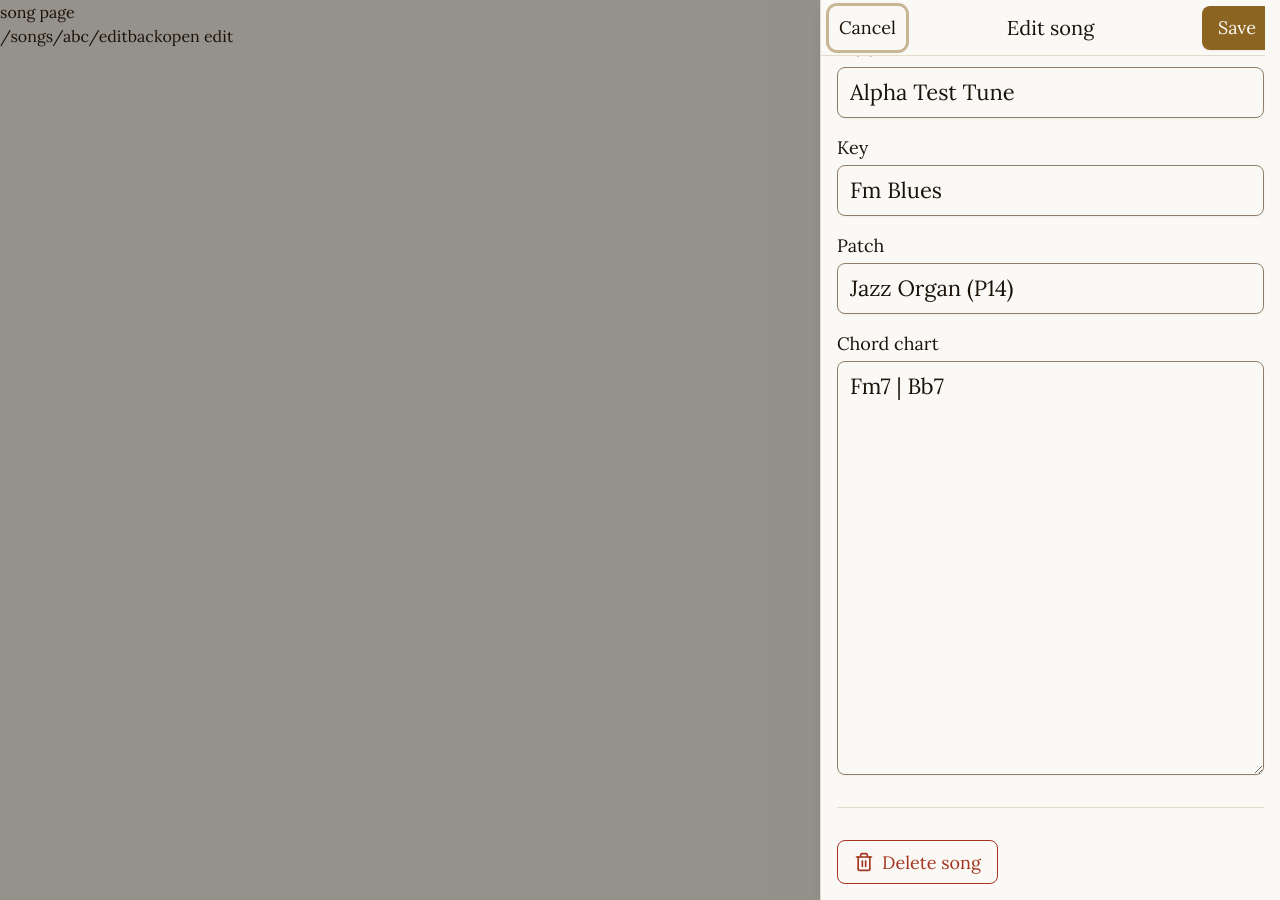
SongEdit delete › deletes on Yes, delete and goes to the song list
(page scrolled)
What coordinates should you click on to do the following:
click the button "Delete song"
I would click on:
 (917, 862)
Its box is left=837, top=840, right=998, bottom=884.
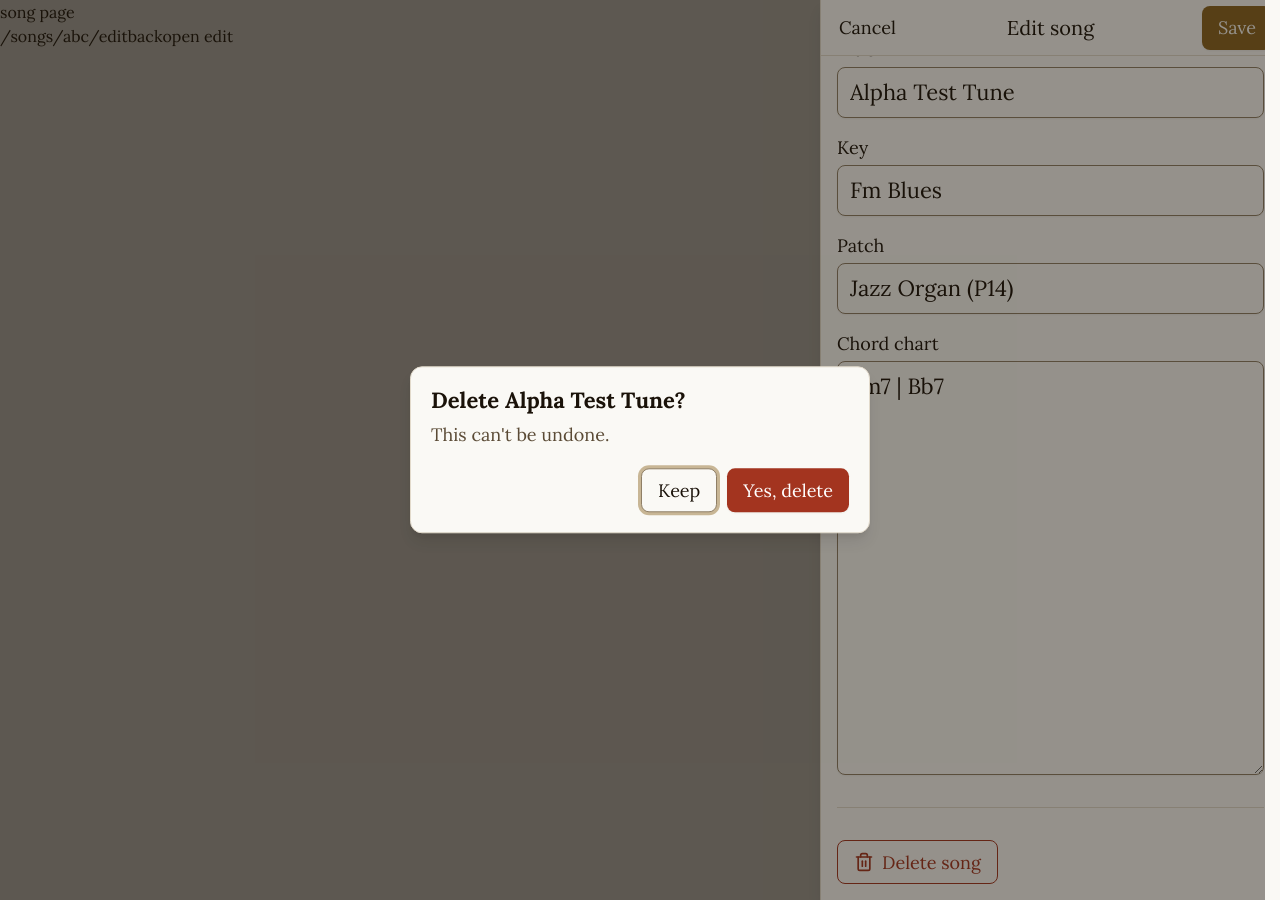
What coordinates should you click on to do the following:
click the button "Yes, delete"
I would click on:
 (788, 491)
Its box is left=727, top=469, right=849, bottom=513.
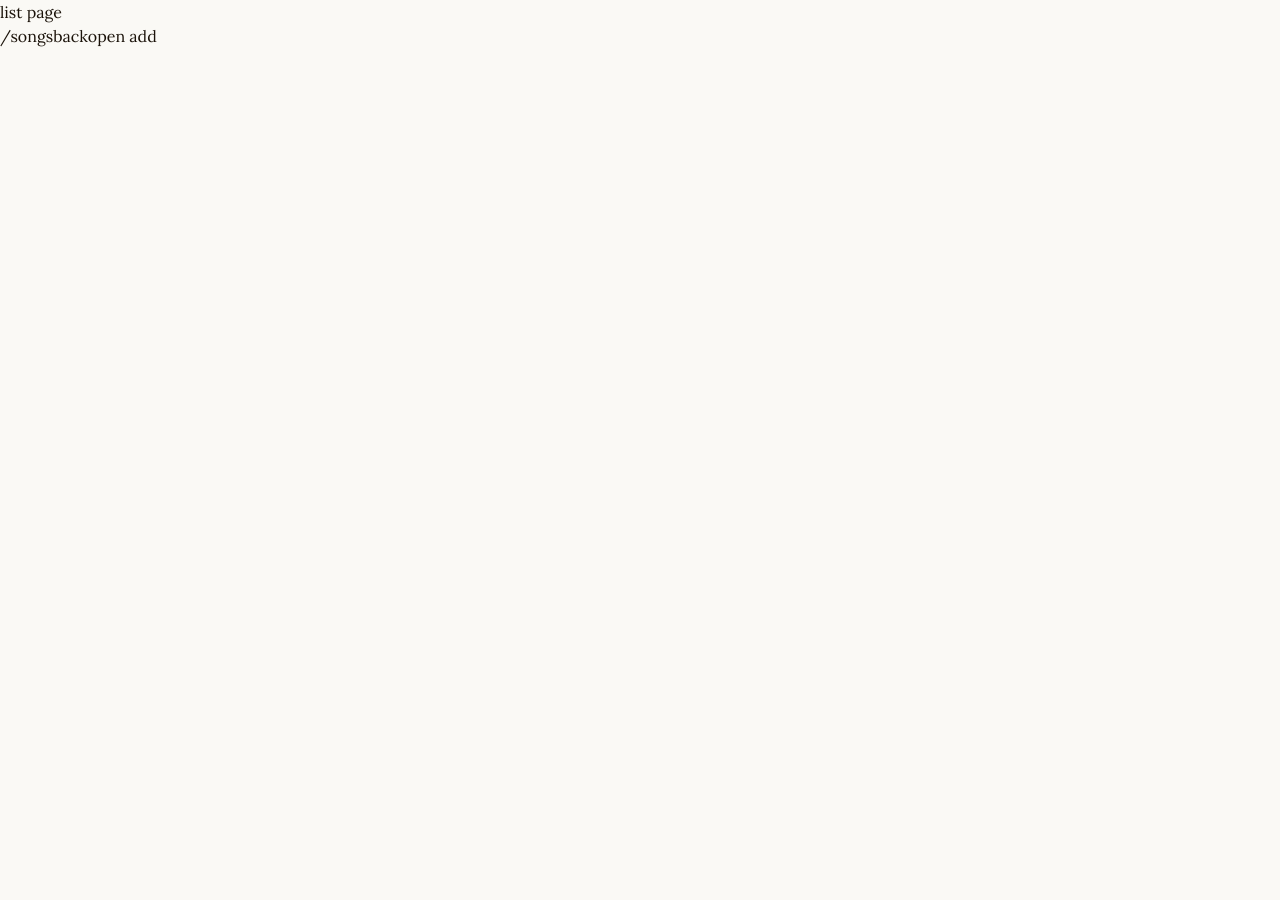
Expected: the text "list page" is shown, left=0, top=2, right=62, bottom=22
